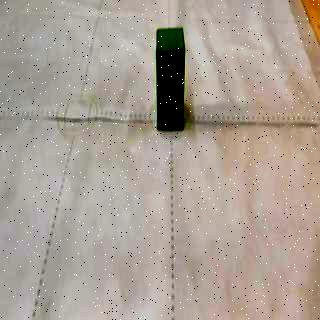greenbox: (156, 28, 184, 130)
